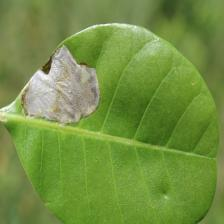leaf miner: (0, 22, 220, 223), (21, 44, 100, 126)
